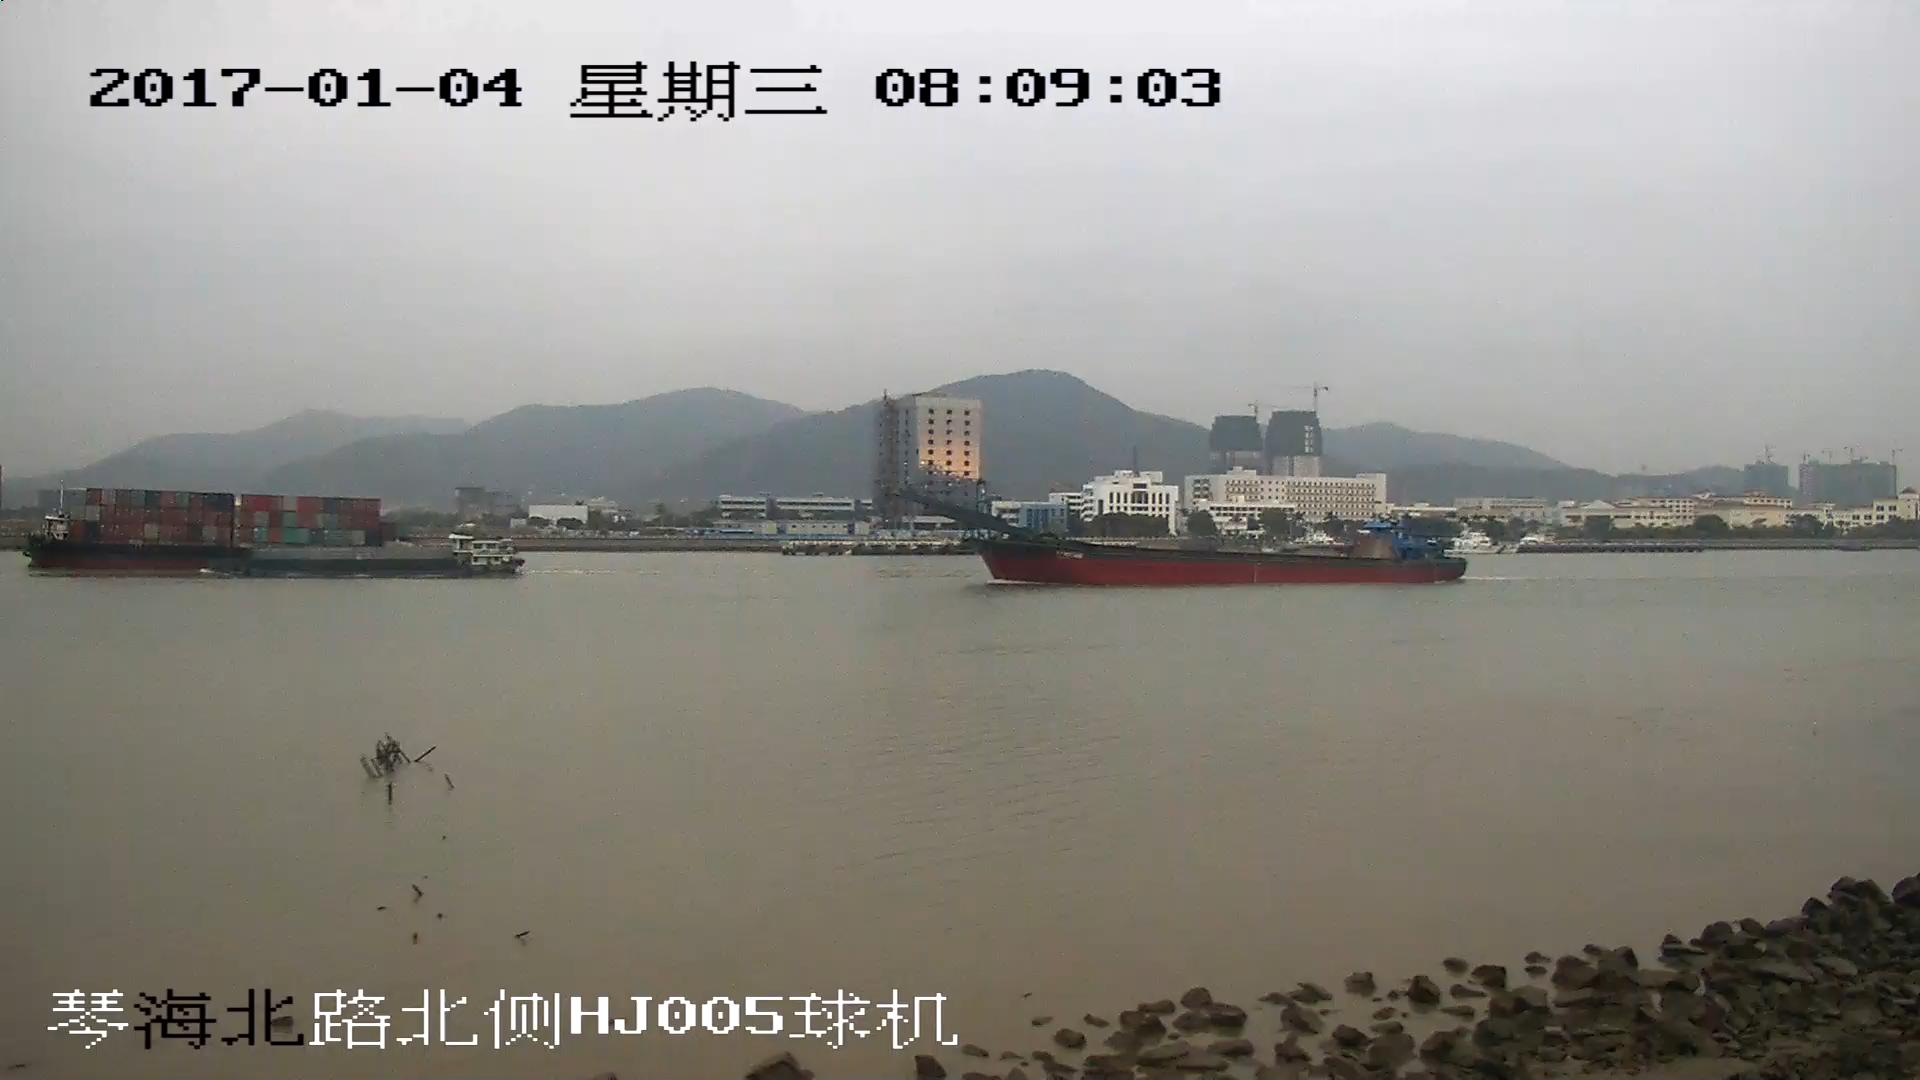bulk cargo carrier: (900, 489, 1466, 584)
container ship: (23, 487, 530, 575)
